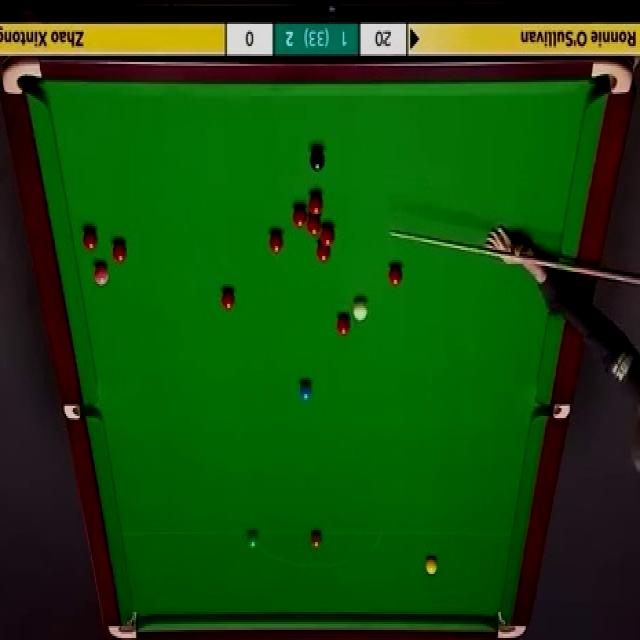pocket: (2, 58, 45, 98), (590, 60, 638, 95), (497, 611, 528, 640), (110, 611, 140, 640), (536, 403, 576, 420), (65, 405, 99, 420)
